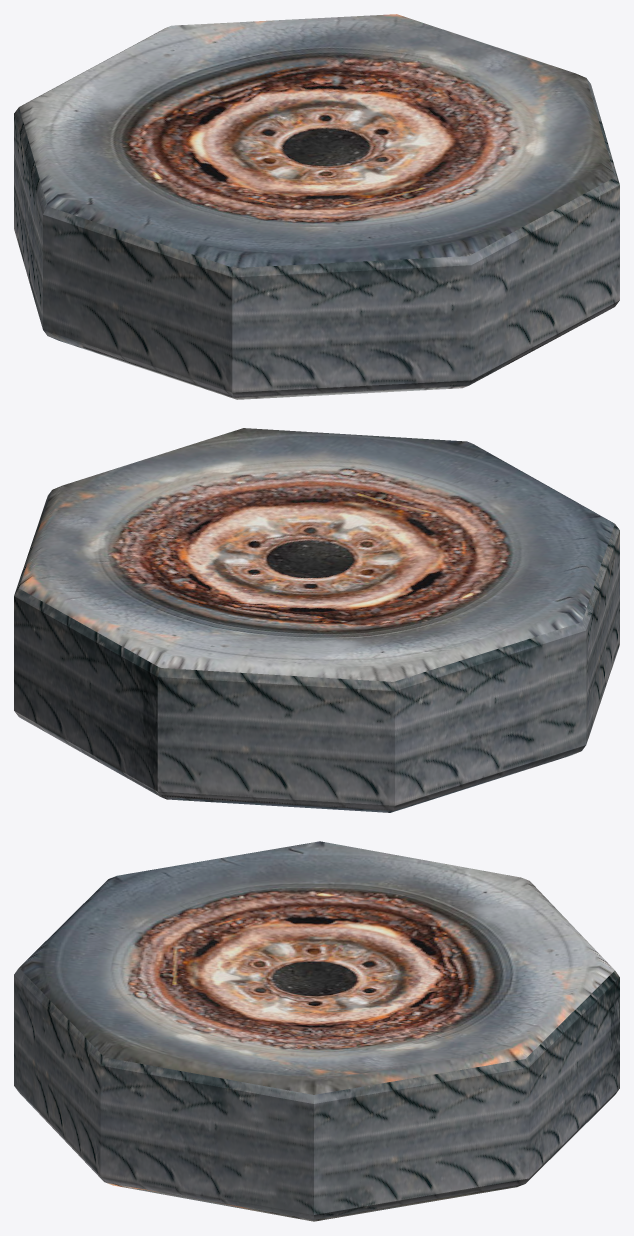
The model's file is llanta.fbx.
3 renders of one model, top to bottom at view 1: azimuth 30°, elevation 25°; view 2: azimuth 150°, elevation 25°; view 3: azimuth 270°, elevation 25°, orthographic. The views are drawn at different scales.
Parts seen in each view (by area): view 1: LLANTA; view 2: LLANTA; view 3: LLANTA.
Boxes of the visible parts, x1,y1,x2,y2 form: LLANTA: (14,14,619,399); LLANTA: (14,428,619,812); LLANTA: (14,841,619,1221).
Bounding box in the file's own units: 84.95 × 21.46 × 84.95.
